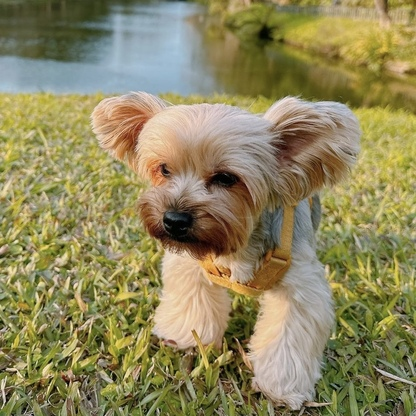yokshine: (87, 89, 362, 407)
